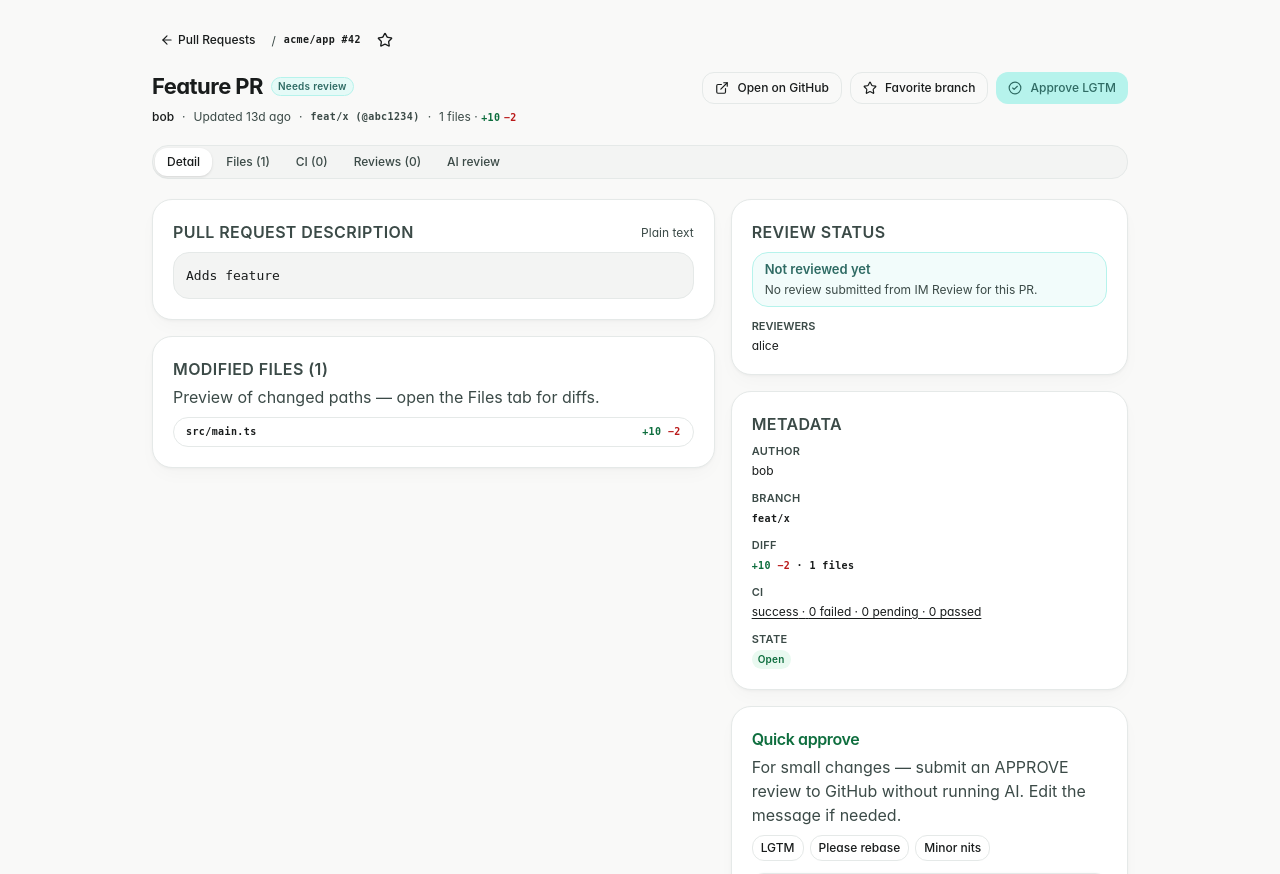
AiReviewPage › switches to files tab and shows changed files panel
The width and height of the screenshot is (1280, 874).
Check: the heading "Feature PR" is shown, box [152,72,263,100]
Click the tab "Files (1)".
click(248, 162)  # box [214,148,282,176]
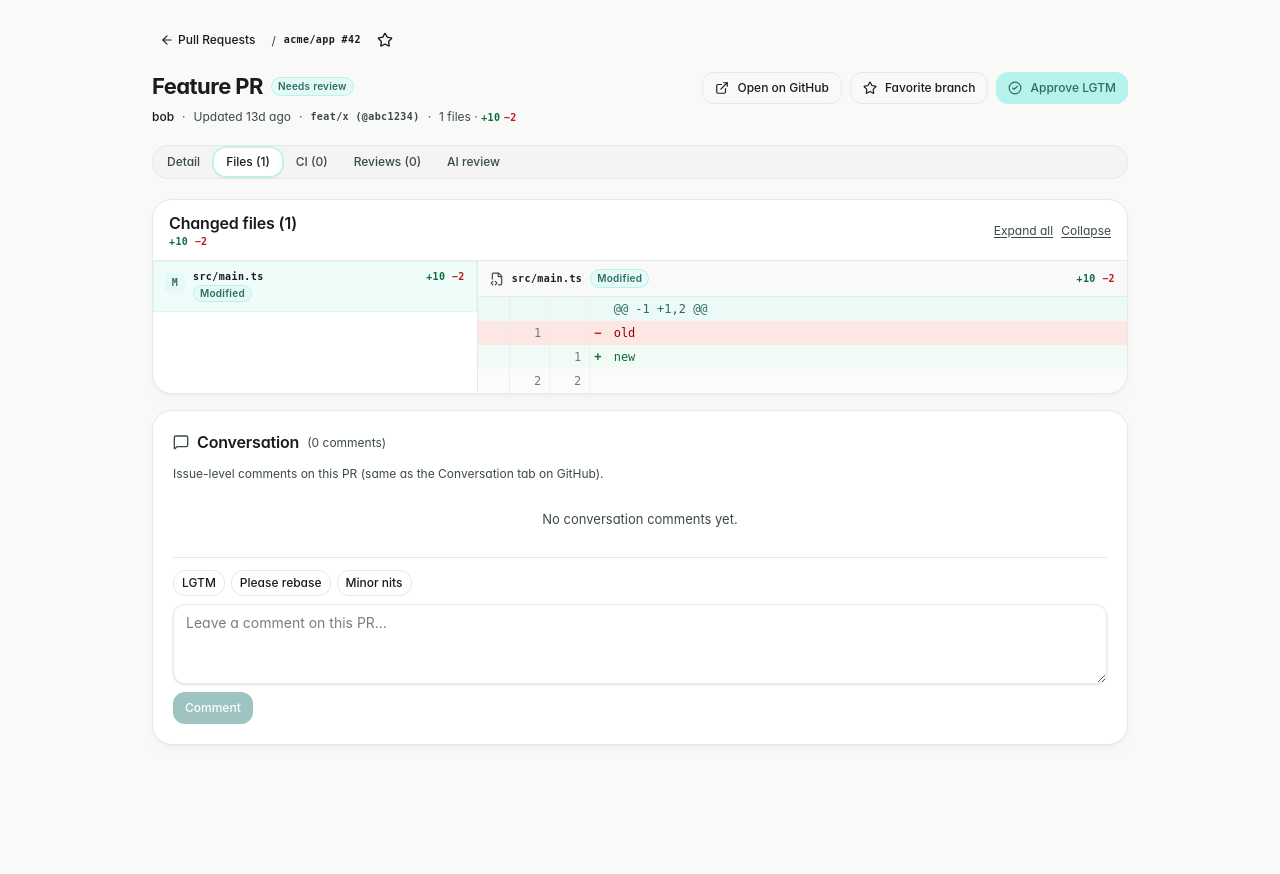
Check: the heading "Changed files (1)" is shown, box [169,212,297,234]
